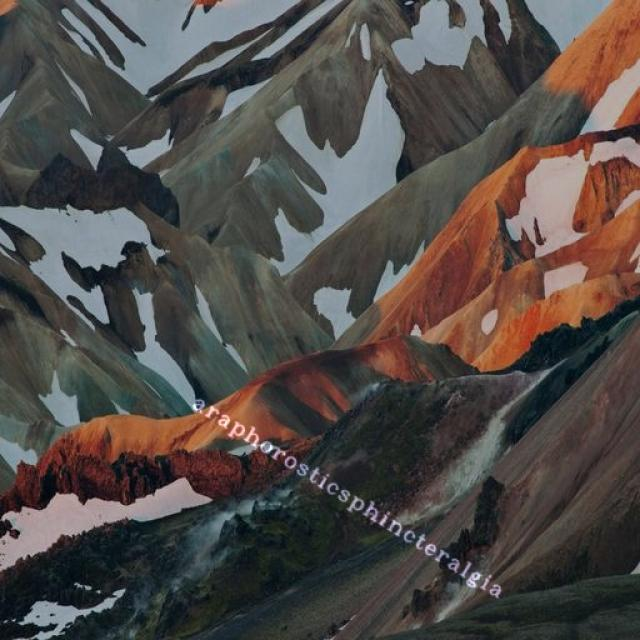watermark: (185, 389, 514, 602)
